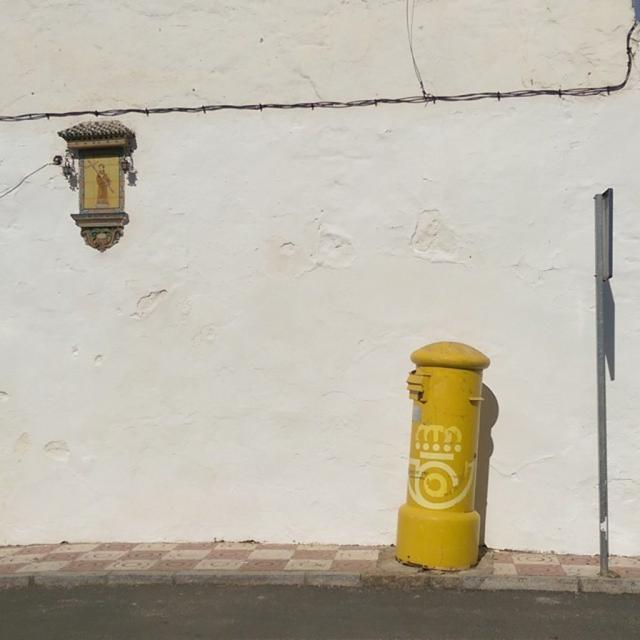fire_hydrant: (394, 342, 489, 574)
